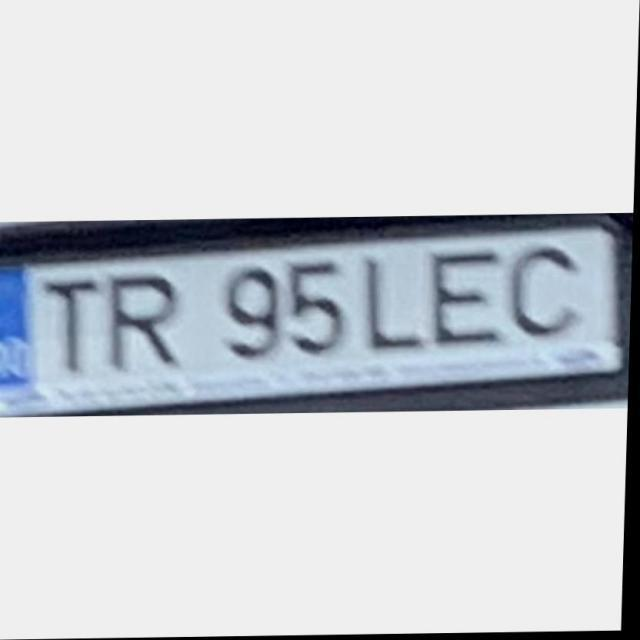license-plates: (0, 228, 625, 419)
